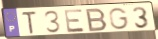3: (132, 6, 151, 29), (44, 10, 62, 34)
B: (85, 7, 109, 33)
E: (63, 8, 87, 34)
G: (108, 7, 131, 31)
T: (21, 10, 38, 35)
